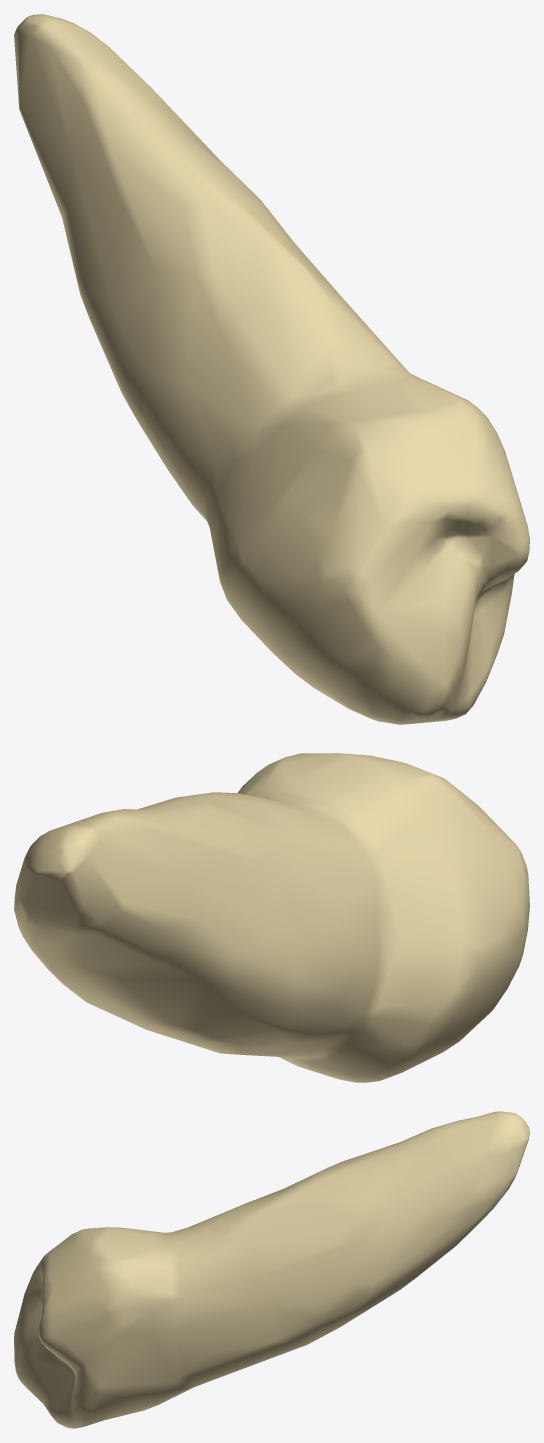
3 renders of one model, top to bottom at view 1: azimuth 30°, elevation 25°; view 2: azimuth 150°, elevation 25°; view 3: azimuth 270°, elevation 25°, orthographic. The views are drawn at different scales.
Parts seen in each view (by area): view 1: 右侧下颌第一前磨牙; view 2: 右侧下颌第一前磨牙; view 3: 右侧下颌第一前磨牙.
Boxes of the visible parts, box(x1,y1,x2,y2) form: 右侧下颌第一前磨牙: box(14, 14, 529, 724); 右侧下颌第一前磨牙: box(14, 753, 529, 1082); 右侧下颌第一前磨牙: box(14, 1111, 529, 1428).
Size of the model in its own units: 0.0115 by 0.0204 by 0.0324.
